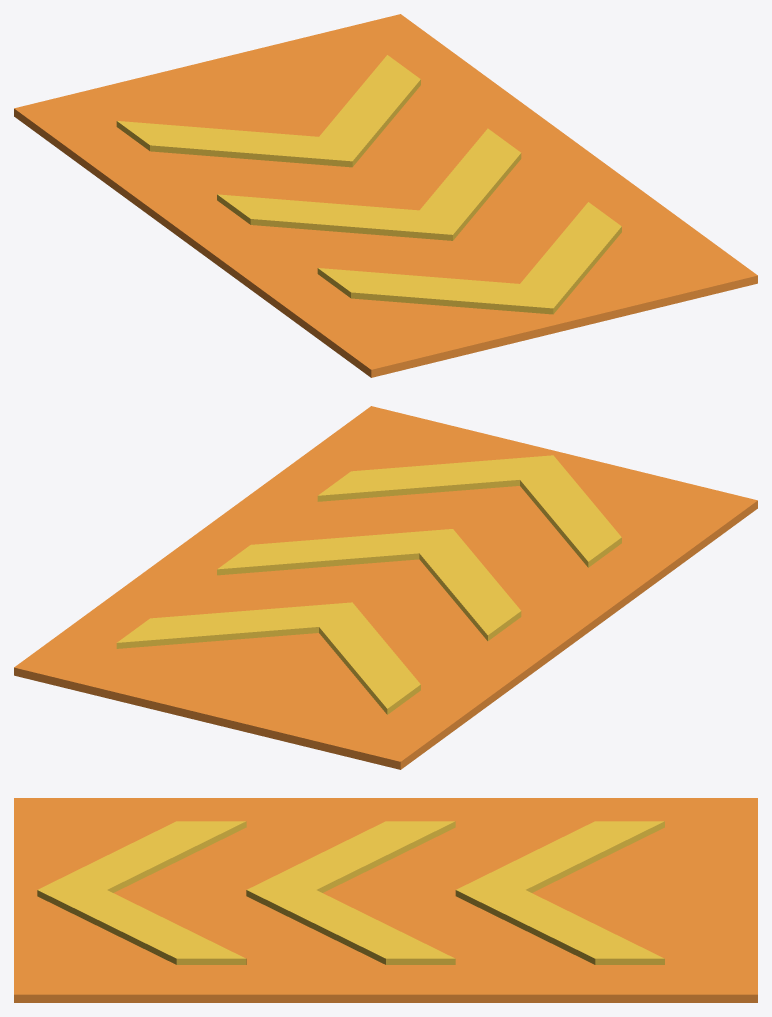
The model's file is Item_BoostPad.fbx.
The picture shows the model from 3 angles, top to bottom: view 1: azimuth 30°, elevation 25°; view 2: azimuth 150°, elevation 25°; view 3: azimuth 270°, elevation 25°; orthographic projection. The views are drawn at different scales.
Parts seen in each view (by area): view 1: Item_BoostPad; view 2: Item_BoostPad; view 3: Item_BoostPad.
Boxes of the visible parts, box(x1,y1,x2,y2) form: Item_BoostPad: box(14, 14, 757, 377); Item_BoostPad: box(14, 406, 757, 769); Item_BoostPad: box(14, 798, 757, 1002).
Size of the model in its own units: 1 by 0.035 by 1.6.
